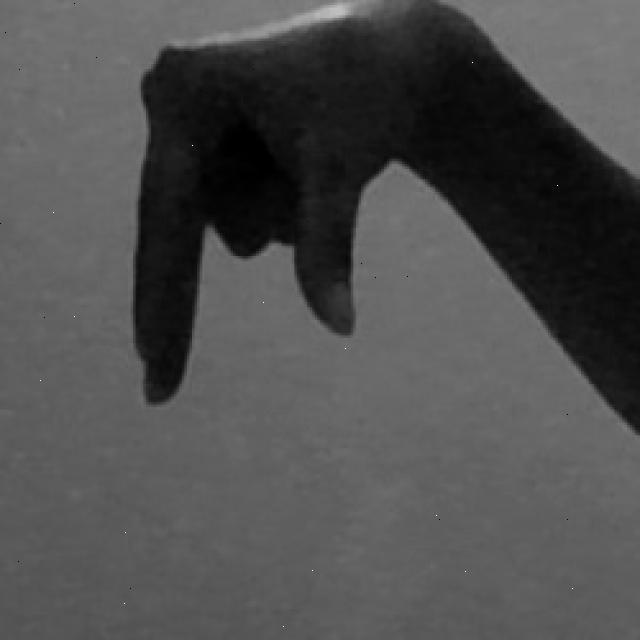Q: (118, 0, 567, 422)
